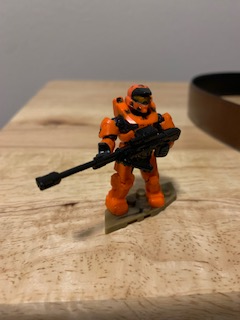spartan: (97, 82, 178, 217)
